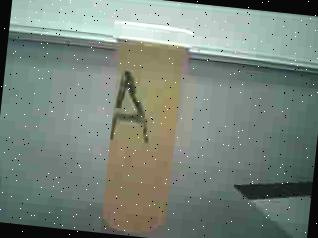Bottle A: (83, 10, 198, 238)
